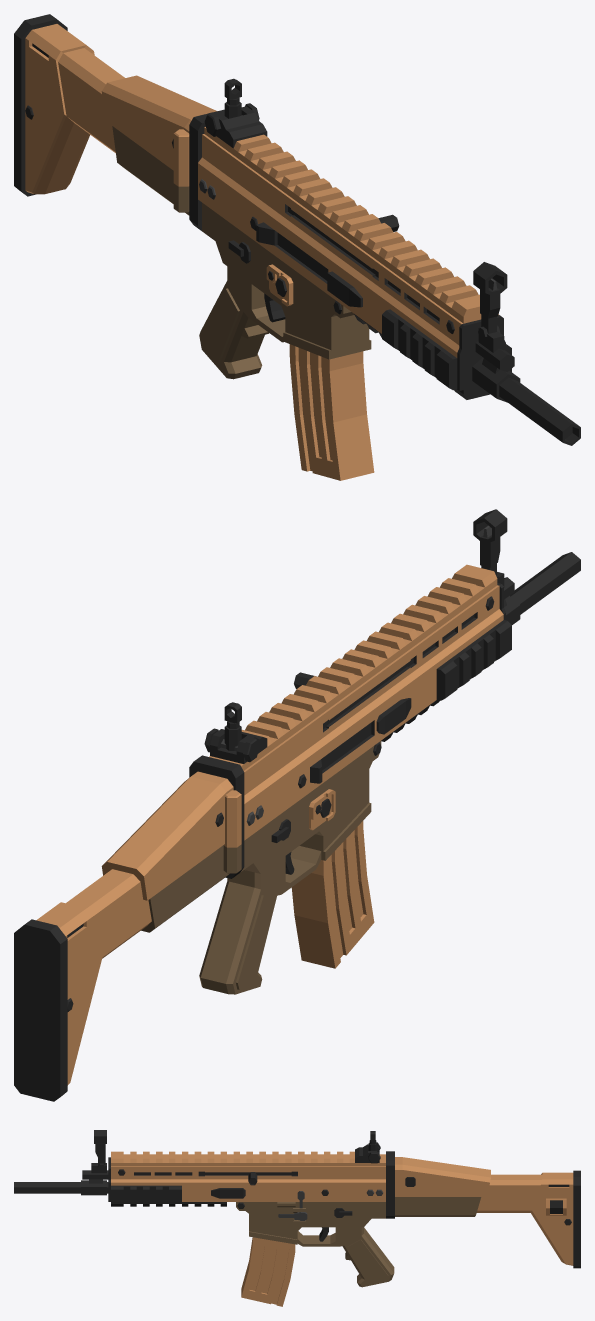
3 views of the same model, one above another, from view 1: azimuth 30°, elevation 25°; view 2: azimuth 150°, elevation 25°; view 3: azimuth 270°, elevation 25° (orthographic). The views are drawn at different scales.
Visible parts, largest first — view 1: AR_C_Receiver_Up, AR_C_Stock_Part, AR_C_Receiver_Down, AR_C_Mag, AR_C_Stock, AR_C_Grip, AR_C_Barrel, AR_C_Sight_Back, AR_C_Sight_Forward, AR_C_Sight_Back_Part; view 2: AR_C_Receiver_Up, AR_C_Stock_Part, AR_C_Stock, AR_C_Receiver_Down, AR_C_Mag, AR_C_Grip, AR_C_Barrel, AR_C_Sight_Forward, AR_C_Sight_Back, AR_C_Sight_Back_Part; view 3: AR_C_Receiver_Up, AR_C_Stock_Part, AR_C_Stock, AR_C_Receiver_Down, AR_C_Mag, AR_C_Grip, AR_C_Barrel, AR_C_Sight_Back, AR_C_Sight_Forward.
Boxes of the visible parts, x1,y1,x2,y2 form: AR_C_Receiver_Up: (189, 109, 511, 399); AR_C_Stock_Part: (14, 14, 125, 196); AR_C_Receiver_Down: (202, 202, 371, 359); AR_C_Mag: (289, 344, 374, 480); AR_C_Stock: (101, 75, 216, 215); AR_C_Grip: (199, 266, 269, 379); AR_C_Barrel: (472, 325, 580, 445); AR_C_Sight_Back: (204, 103, 267, 148); AR_C_Sight_Forward: (473, 262, 507, 333); AR_C_Sight_Back_Part: (224, 78, 241, 118); AR_C_Receiver_Up: (189, 564, 511, 878); AR_C_Stock_Part: (14, 869, 151, 1101); AR_C_Stock: (101, 771, 241, 932); AR_C_Receiver_Down: (240, 741, 381, 893); AR_C_Mag: (291, 821, 374, 968); AR_C_Grip: (199, 859, 281, 994); AR_C_Barrel: (496, 552, 580, 624); AR_C_Sight_Forward: (473, 509, 507, 575); AR_C_Sight_Back: (204, 728, 267, 763); AR_C_Sight_Back_Part: (224, 702, 241, 750); AR_C_Receiver_Up: (108, 1151, 394, 1218); AR_C_Stock_Part: (477, 1170, 580, 1268); AR_C_Stock: (395, 1157, 490, 1216); AR_C_Receiver_Down: (236, 1191, 385, 1246); AR_C_Mag: (241, 1237, 295, 1306); AR_C_Grip: (339, 1227, 394, 1287); AR_C_Barrel: (14, 1163, 108, 1195); AR_C_Sight_Back: (355, 1142, 380, 1163); AR_C_Sight_Forward: (94, 1130, 106, 1165).
Size of the model in its own units: 0.095 by 0.3685 by 1.1.
